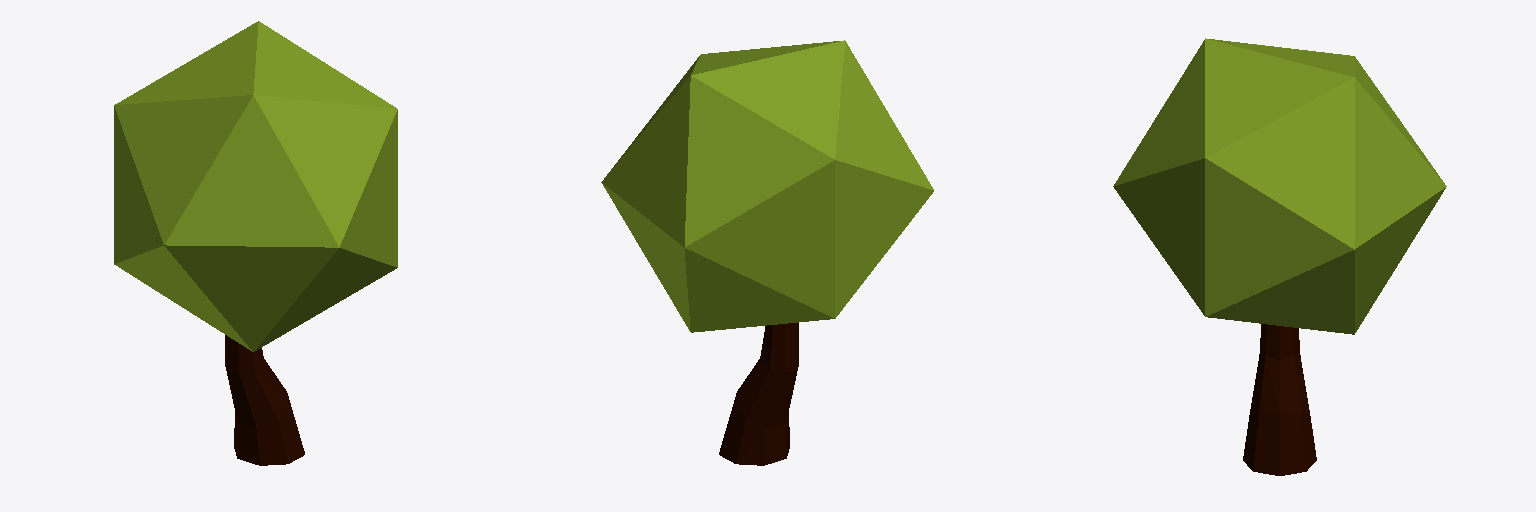
File: Bush3.obj
3 views of the same model, side by side, from view 1: azimuth 30°, elevation 25°; view 2: azimuth 150°, elevation 25°; view 3: azimuth 270°, elevation 25° (orthographic).
Visible parts, largest first — view 1: Bush3_Icosphere.004; view 2: Bush3_Icosphere.004; view 3: Bush3_Icosphere.004.
Part boxes in pixels (left/top/right/bottom): Bush3_Icosphere.004: left=114, top=21, right=397, bottom=465; Bush3_Icosphere.004: left=601, top=40, right=933, bottom=465; Bush3_Icosphere.004: left=1113, top=38, right=1446, bottom=475.
Size of the model in its own units: 0.8552 by 1.25 by 0.9562.